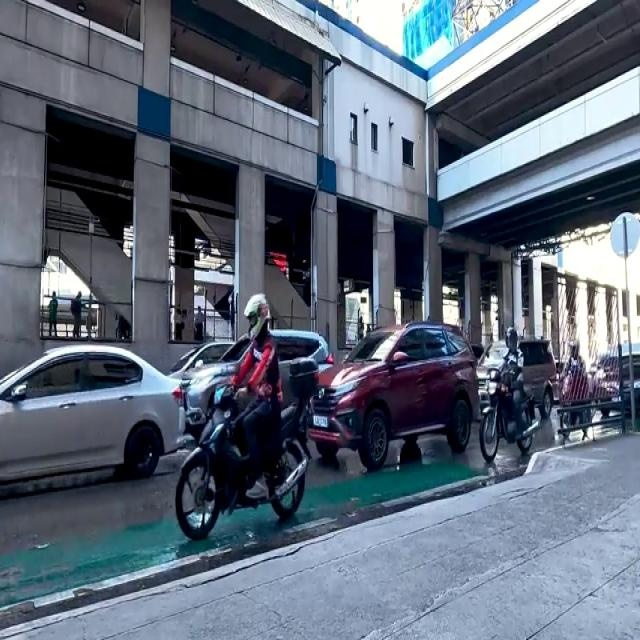car: (0, 342, 173, 487), (315, 331, 463, 468), (187, 330, 324, 426)
motorcycle: (186, 316, 290, 532), (478, 328, 530, 469), (556, 348, 587, 434)
